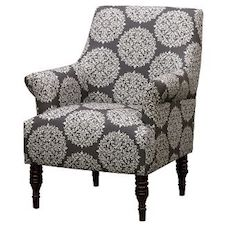chair: (15, 6, 210, 215)
